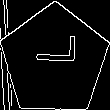L_W: (30, 44, 79, 77)
